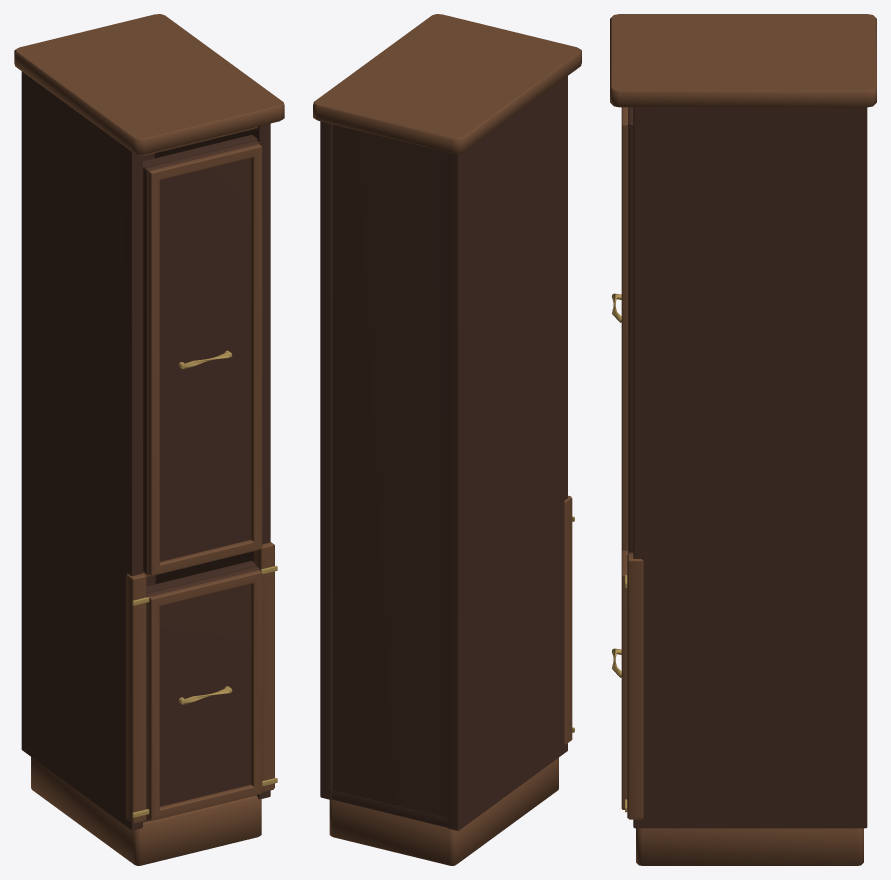
Rendered from rpg-mansion-kitchen-pull-pantry-450-01.glb.
3 views of the same model, side by side, from view 1: azimuth 30°, elevation 25°; view 2: azimuth 150°, elevation 25°; view 3: azimuth 270°, elevation 25° (orthographic). The views are drawn at different scales.
Parts seen in each view (by area): view 1: rpg-mansion-kitchen-pull-pantry-450-01; view 2: rpg-mansion-kitchen-pull-pantry-450-01; view 3: rpg-mansion-kitchen-pull-pantry-450-01.
Boxes of the visible parts, bbox=[...] form: rpg-mansion-kitchen-pull-pantry-450-01: bbox=[14, 14, 284, 865]; rpg-mansion-kitchen-pull-pantry-450-01: bbox=[313, 14, 581, 865]; rpg-mansion-kitchen-pull-pantry-450-01: bbox=[610, 14, 876, 865].
Bounding box in the file's own units: 0.45 × 2.1 × 0.65.
